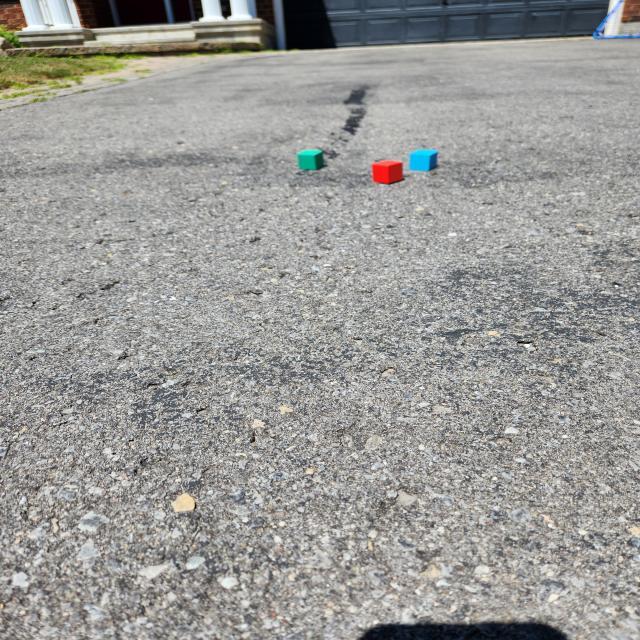bluecube: (410, 148, 438, 170)
green cube: (298, 149, 324, 170)
red cube: (372, 159, 403, 184)
